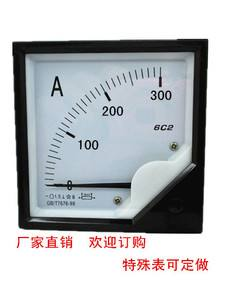pointer: (25, 50, 193, 223)
